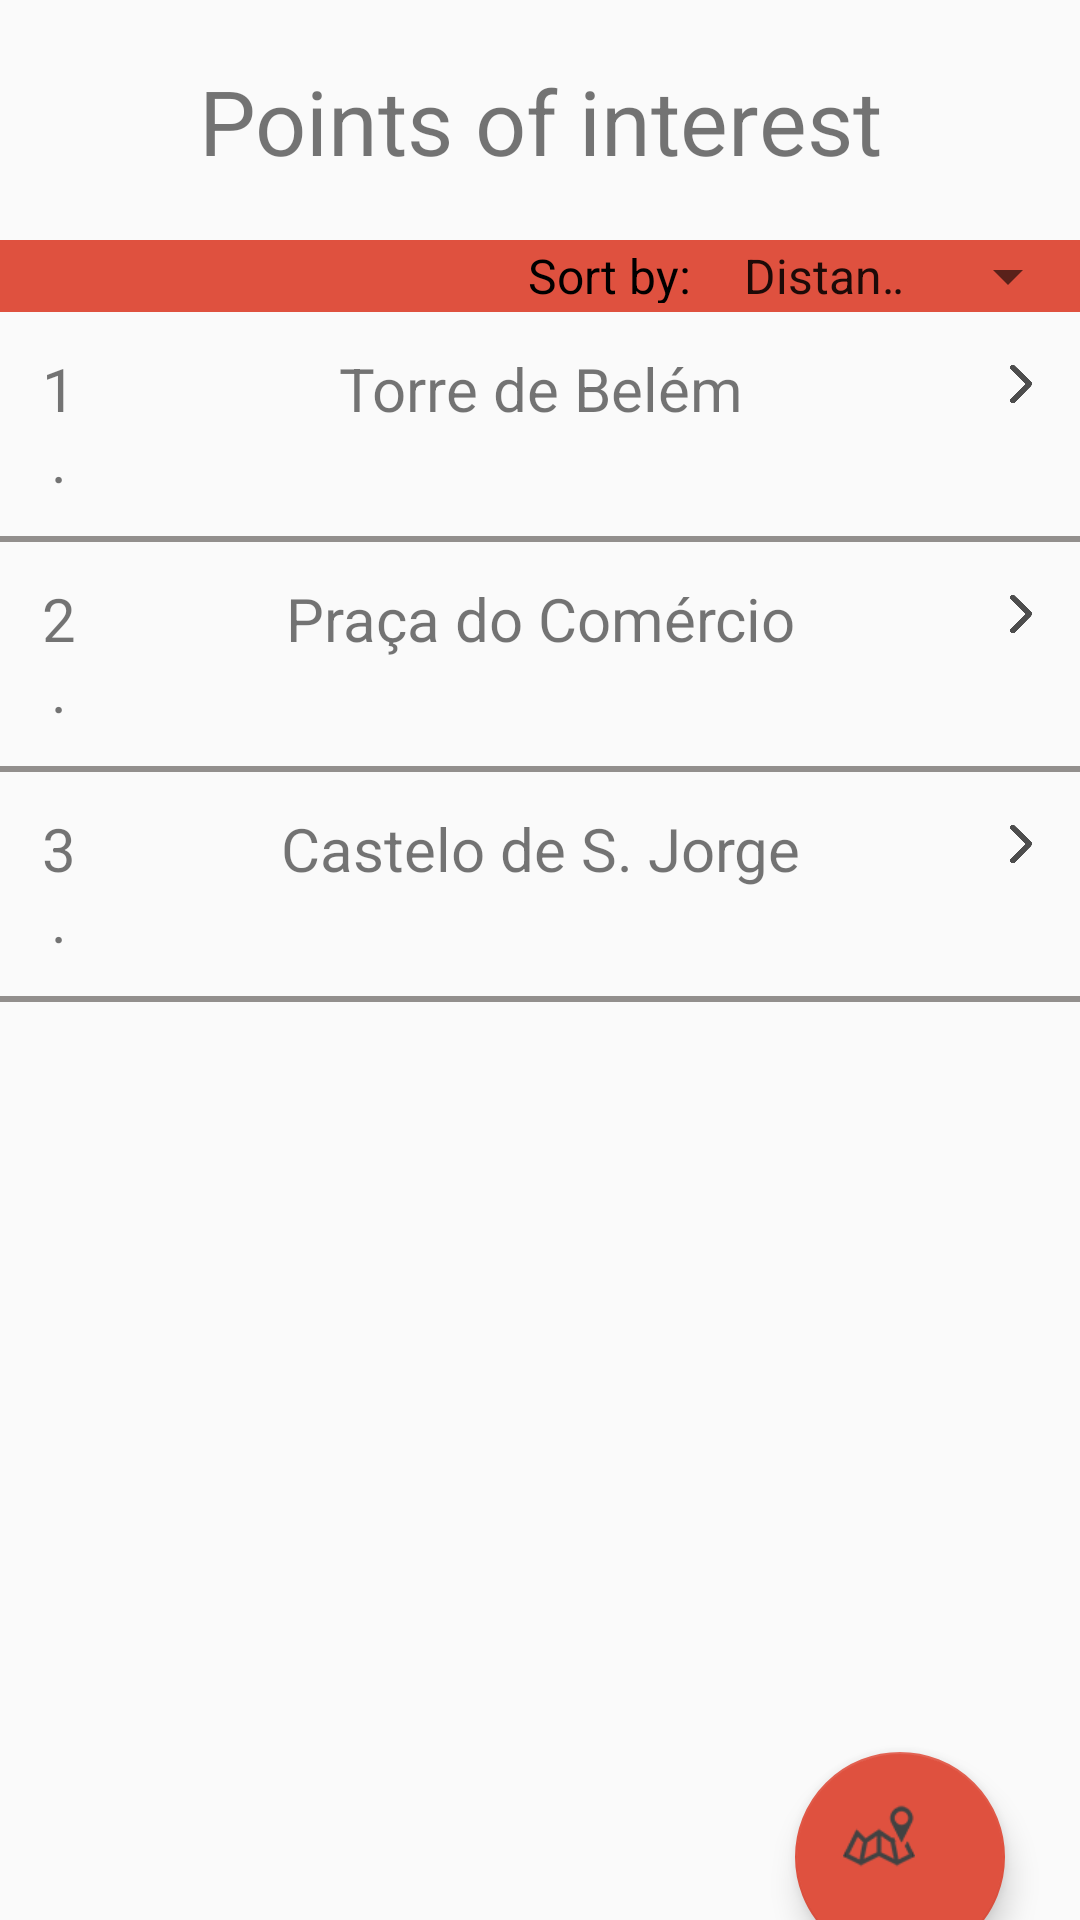

Screen size 1080w x 1920h. Icon name, then its box in pixels as bbox=[x1, y1, x2, y2]:
arrow: bbox=[1010, 365, 1032, 403], bbox=[1010, 595, 1032, 633], bbox=[1010, 825, 1032, 863]
